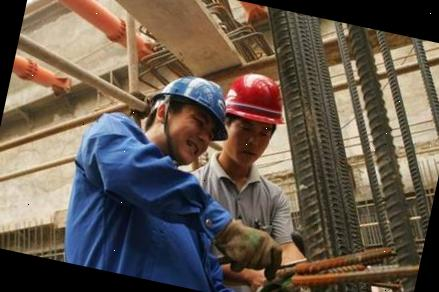helmet: (218, 68, 294, 131), (149, 62, 228, 120)
no_wear: (190, 163, 302, 236)
wear: (52, 128, 228, 291)
